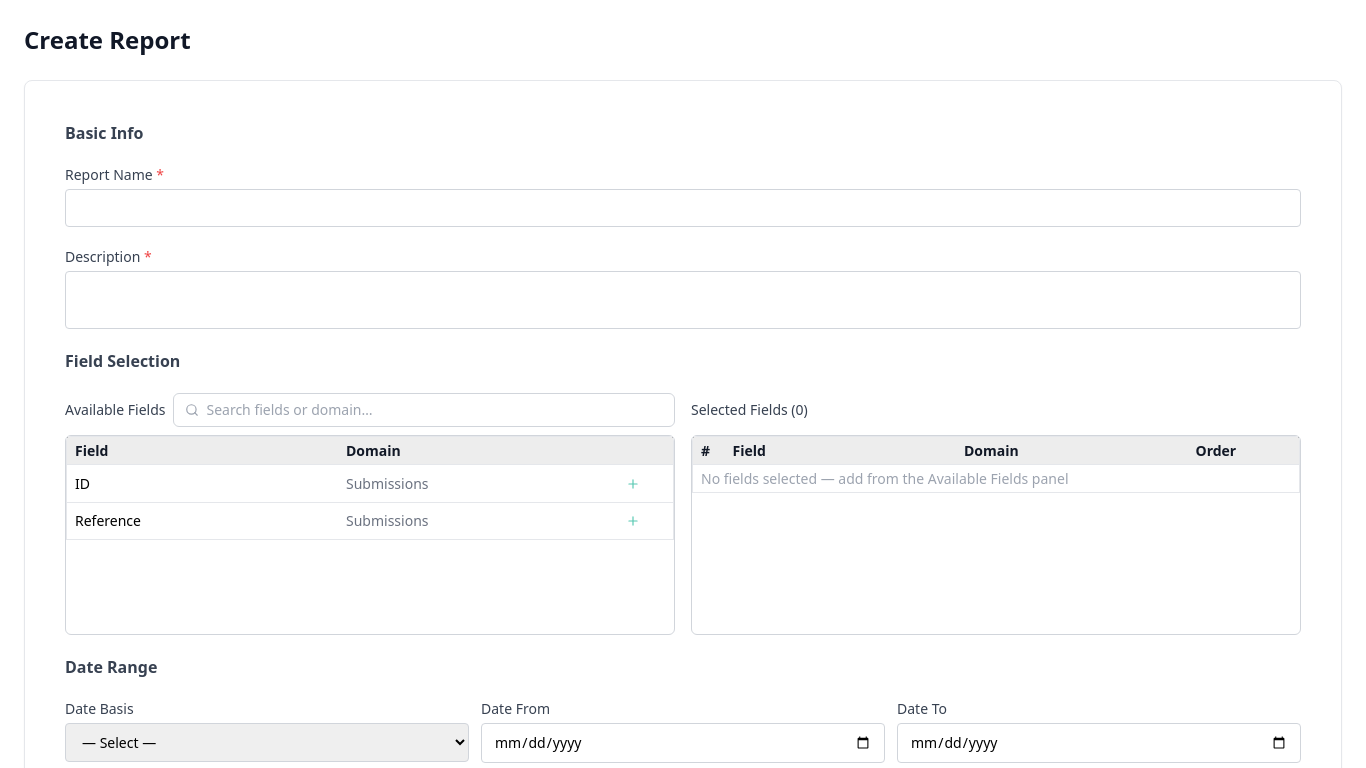
Test case: ReportCreatePage — /reports/create and /reports/edit/:id › T-RPT-FE-F-R013b — clicking Add on an available field moves it to the selected panel
The width and height of the screenshot is (1366, 768).
Note: Wait for field-level Add buttons to appear (fields loaded from all sources on mount)
Click the button titled "add field" in the row of "ID" at (632, 484), box [618, 469, 648, 499]
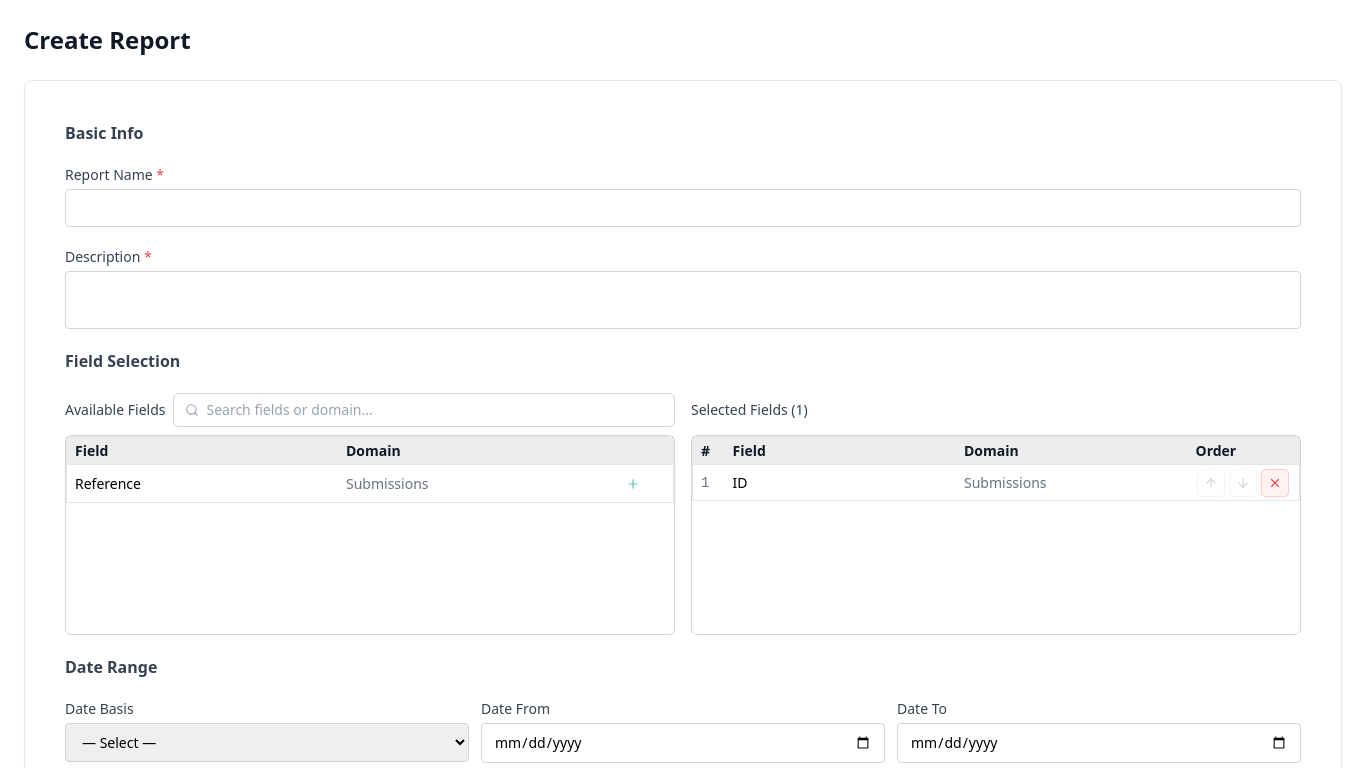
Expected: the element with test id "selected-fields" reads "# Field Domain Order 1 ID Submissions", [732, 473, 748, 492]
